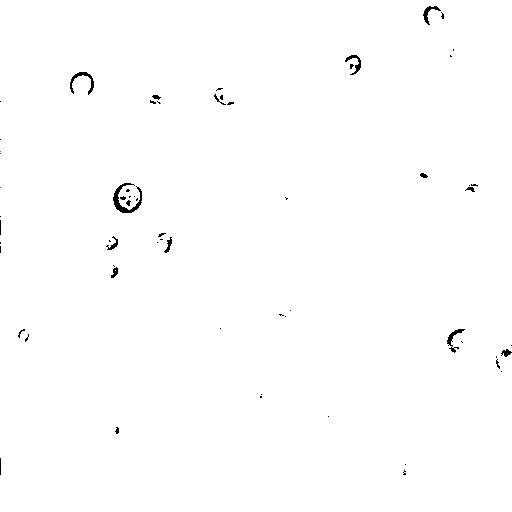micro-algae: (393, 445, 441, 493), (113, 182, 143, 214), (105, 414, 131, 447), (266, 308, 297, 332), (275, 182, 303, 208), (411, 161, 437, 188), (445, 327, 472, 353), (70, 70, 95, 98), (493, 340, 511, 377), (459, 179, 485, 204), (253, 388, 275, 415), (212, 85, 237, 107), (151, 231, 173, 256), (421, 3, 445, 25), (341, 53, 362, 78), (97, 261, 122, 280), (444, 45, 463, 67), (0, 453, 19, 475), (97, 233, 119, 251), (0, 221, 13, 247), (153, 1, 169, 19), (17, 327, 31, 344)
